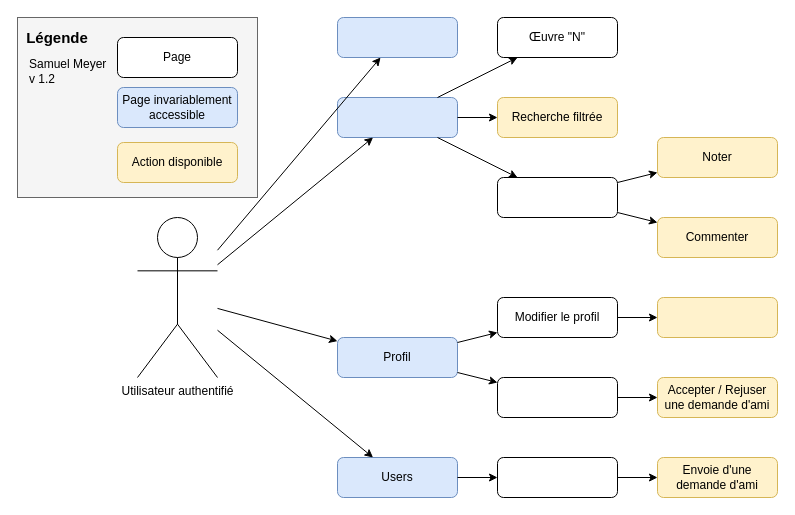
Image size: 795x515. Some labels were removed from this diagram. The shapes that lost their labels are listed below. From the top down, each one's centre as x and y in pixels, then its label:
point (397, 37): Accueil
point (397, 117): Œuvres
point (557, 197): Article "N"
point (717, 317): Ajout d'article
point (557, 397): Amis
point (557, 477): N Utilisateur
